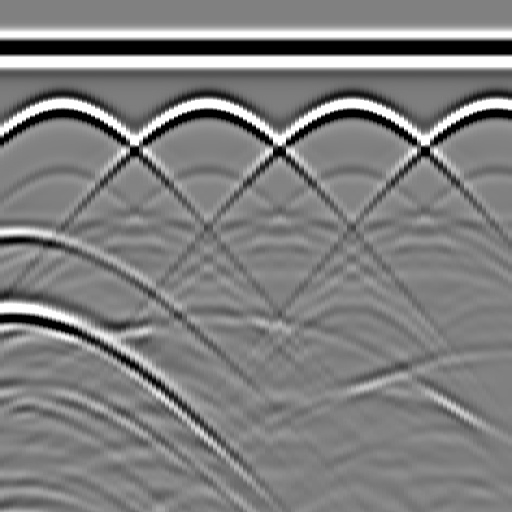grout_surface: (1, 208, 512, 238)
rebar: (41, 87, 81, 127), (185, 87, 225, 127), (329, 87, 369, 127), (473, 87, 512, 127)
rock_surface: (1, 318, 511, 390)
